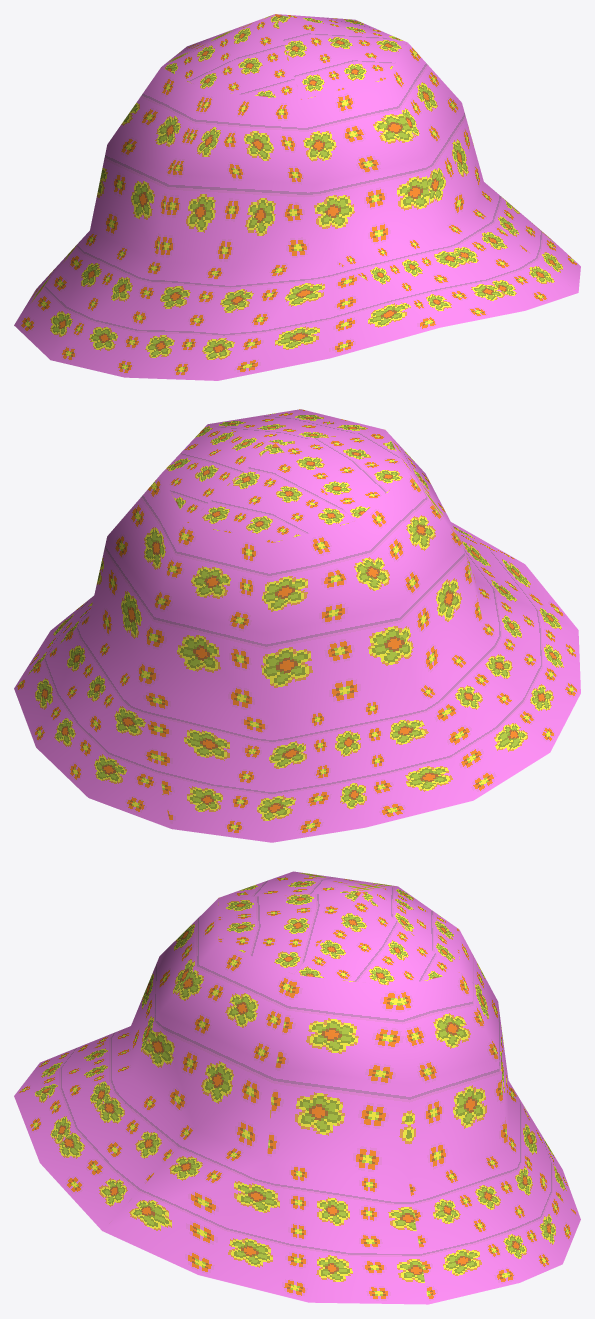
The model's file is code_head60.gltf.
The picture shows the model from 3 angles, top to bottom: view 1: azimuth 30°, elevation 25°; view 2: azimuth 150°, elevation 25°; view 3: azimuth 270°, elevation 25°; orthographic projection. The views are drawn at different scales.
Visible parts, largest first — view 1: code_head60; view 2: code_head60; view 3: code_head60.
Boxes of the visible parts, left/top/right/bottom form: code_head60: left=14, top=14, right=580, bottom=380; code_head60: left=14, top=409, right=580, bottom=842; code_head60: left=14, top=871, right=580, bottom=1304.
Size of the model in its own units: 0.9644 by 0.5715 by 0.8972.
1 material, 1 textured.
